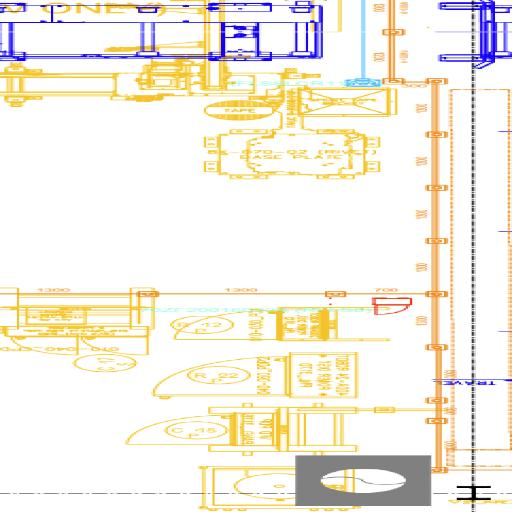robot: (194, 67, 387, 183)
